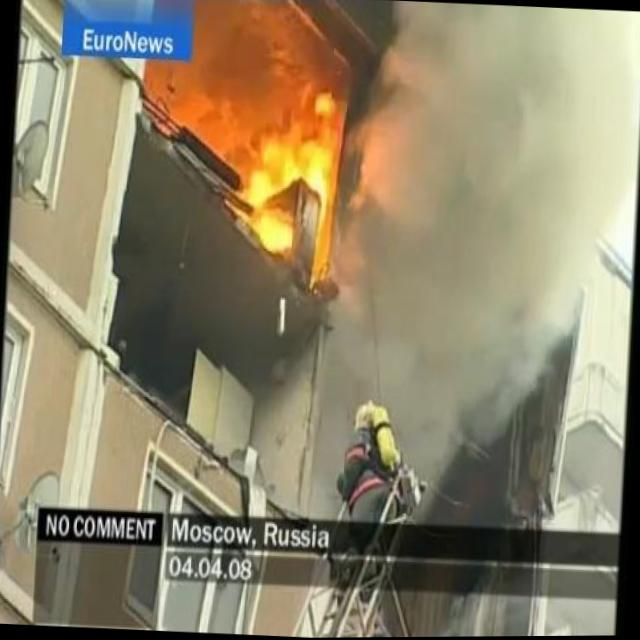fire: (229, 82, 352, 252)
